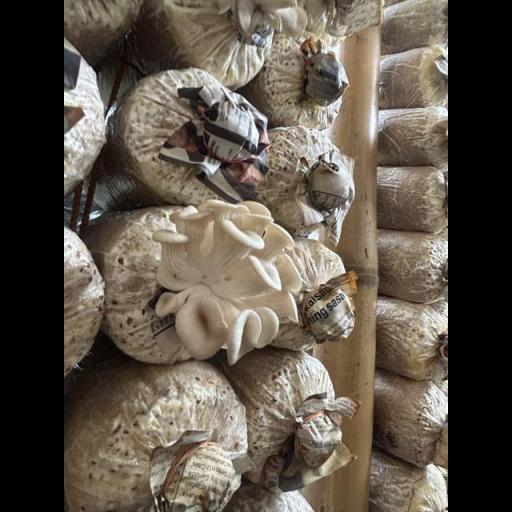White Oyster Mushroom: (142, 187, 319, 374)
